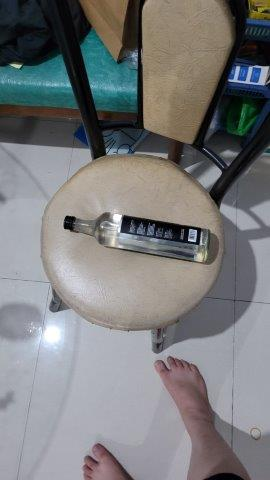botolkaca: (59, 212, 210, 268)
